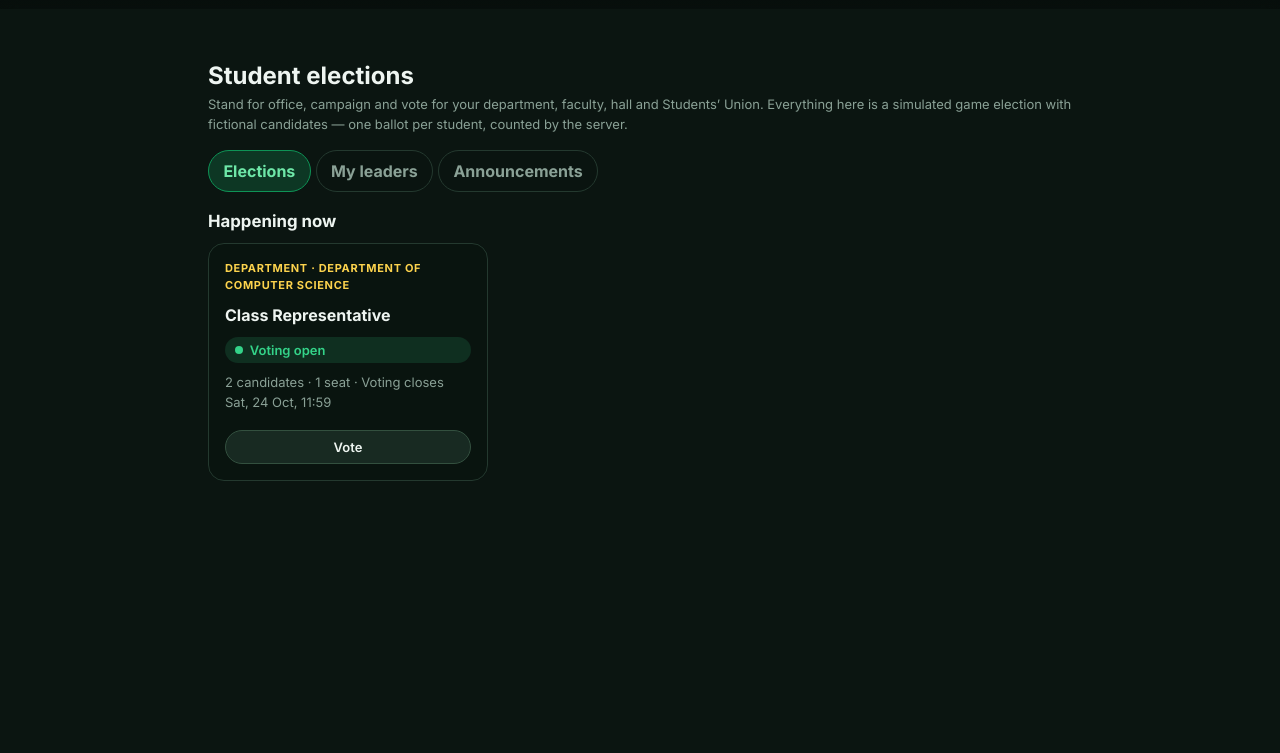
Test: student elections › lists elections happening now and opens one
Expected: the heading "Happening now" is shown, left=208, top=211, right=336, bottom=231
Expected: the heading "Class Representative" is shown, left=225, top=305, right=390, bottom=325
Click the link "Vote": {"x": 348, "y": 447} left=225, top=430, right=471, bottom=464
(page scrolled)
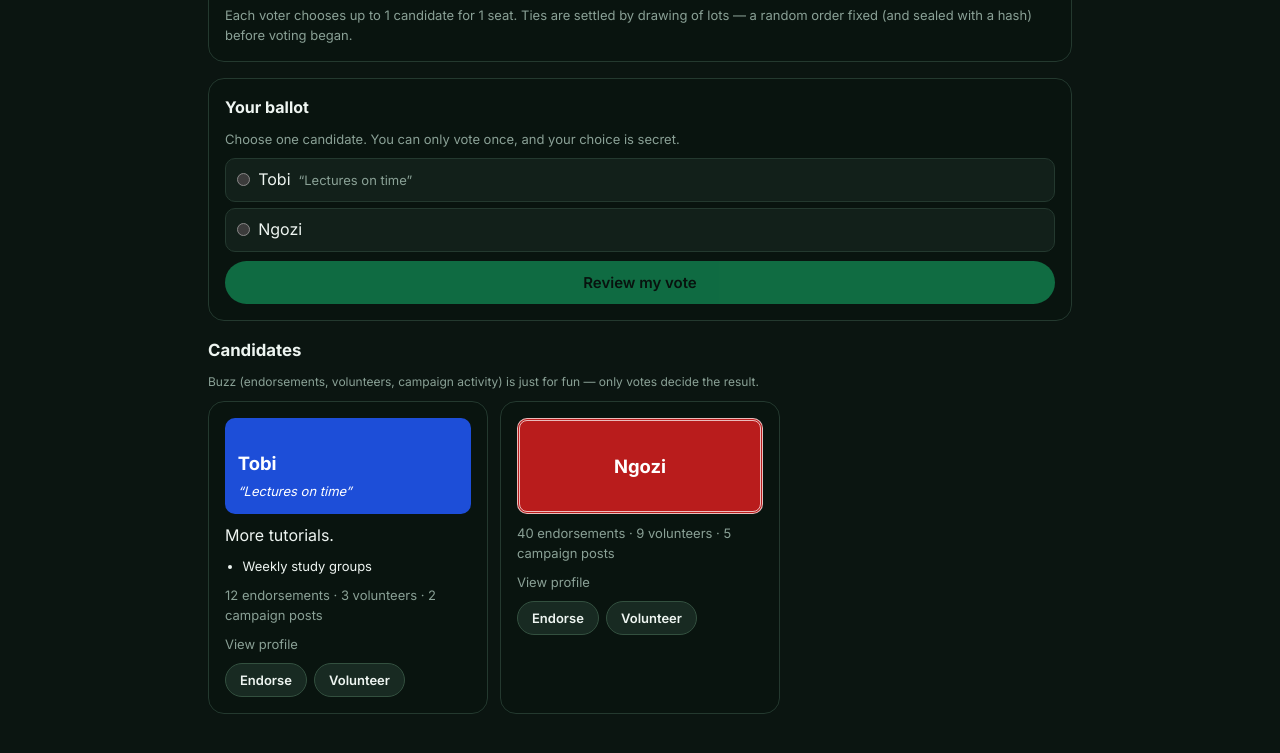
Result: the text "only votes decide the result" is shown at left=208, top=374, right=759, bottom=389
